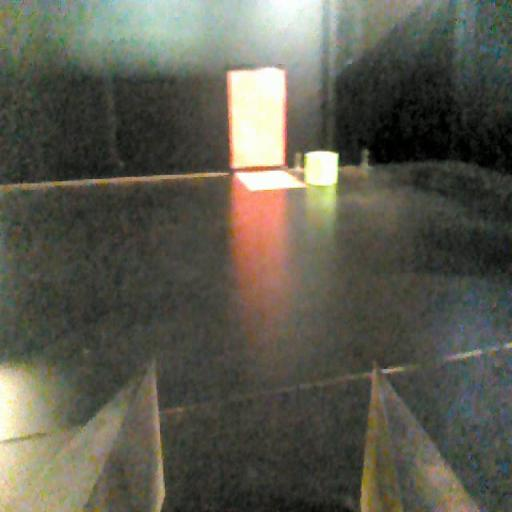cube: (303, 151, 342, 189)
